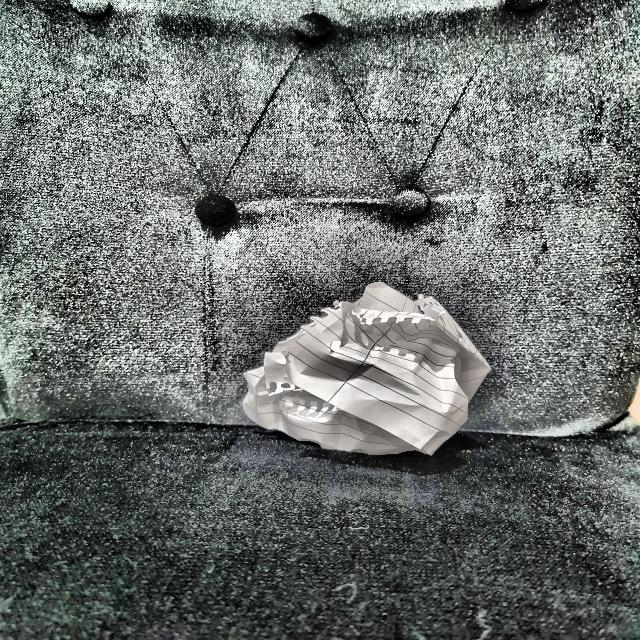Paper: (240, 284, 486, 458)
